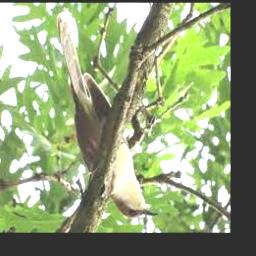Cuckoo: (56, 15, 158, 217)
